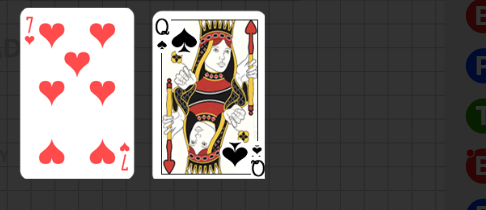7H: (22, 14, 36, 46)
